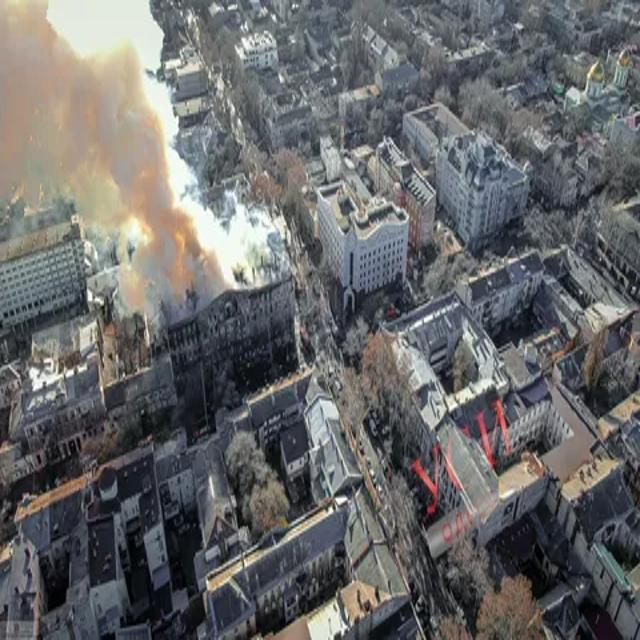Smoke: (0, 0, 269, 318)
